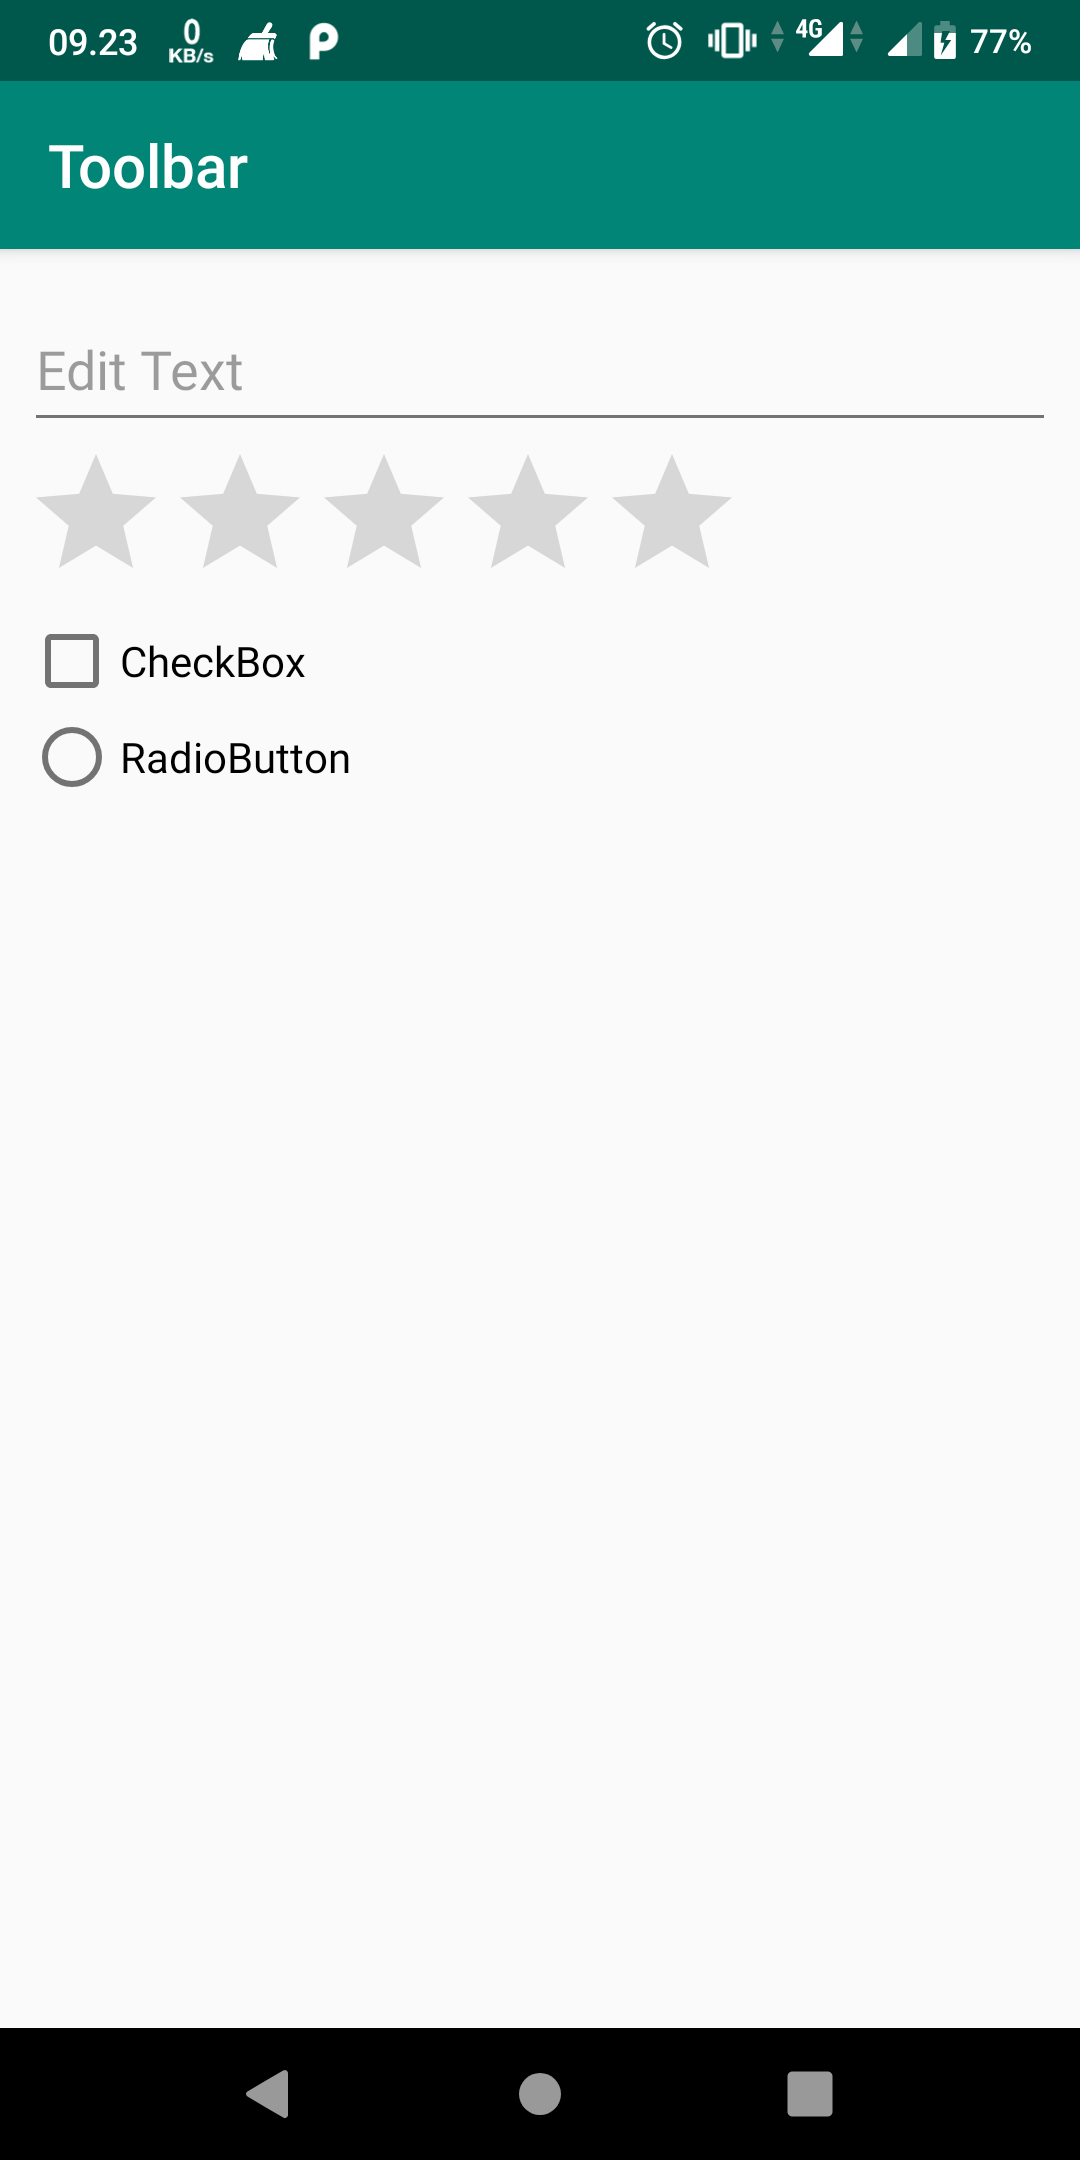checkBox: (34, 612, 320, 712)
editText: (28, 331, 1061, 431)
radioButton: (39, 719, 357, 799)
ratingBar: (28, 450, 744, 585)
toolbar: (3, 80, 1080, 248)
